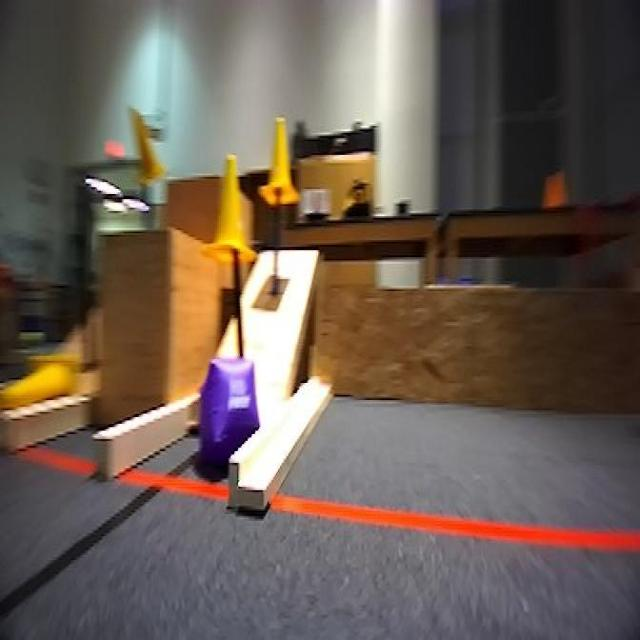frc_cone: (210, 155, 257, 265), (1, 351, 74, 417), (261, 116, 299, 206), (130, 106, 168, 192)
frc_cube: (202, 358, 262, 462)
